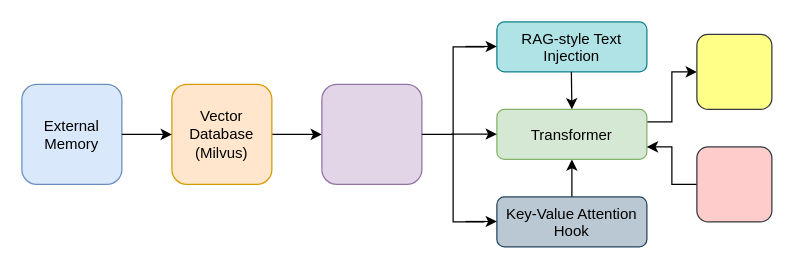
The diagram is 794 pixels wide and 269 high, and some of its shapes have lost their labels. Each missing label, with the centre of its shape:
Input Query: (734,184)
MDI (Memory Dependency Injection): (371,133)
Output Response: (734,71)
